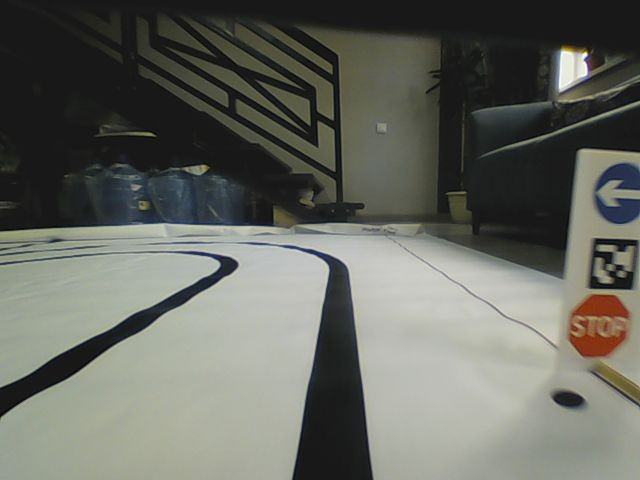Stop: (571, 293, 631, 359)
